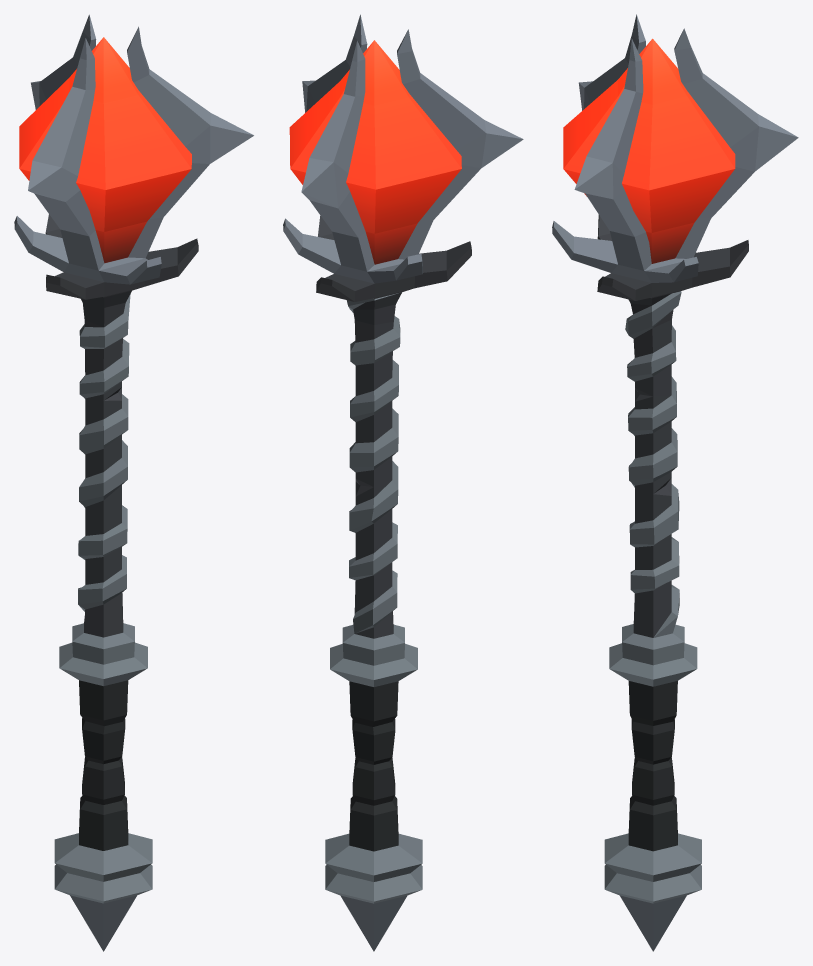
Rendered from SM_Weapon_Mace.fbx.
3 renders of one model, left to right at view 1: azimuth 30°, elevation 25°; view 2: azimuth 150°, elevation 25°; view 3: azimuth 270°, elevation 25°, orthographic.
Visible parts, largest first — view 1: SM_Wep_Mace_02; view 2: SM_Wep_Mace_02; view 3: SM_Wep_Mace_02.
Part boxes in pixels (<box>): SM_Wep_Mace_02: <box>14,14,253,951</box>; SM_Wep_Mace_02: <box>283,14,523,951</box>; SM_Wep_Mace_02: <box>552,14,798,951</box>.
Size of the model in its own units: 29.51 by 116 by 28.14.
Materials: 1 (1 with a texture image).
